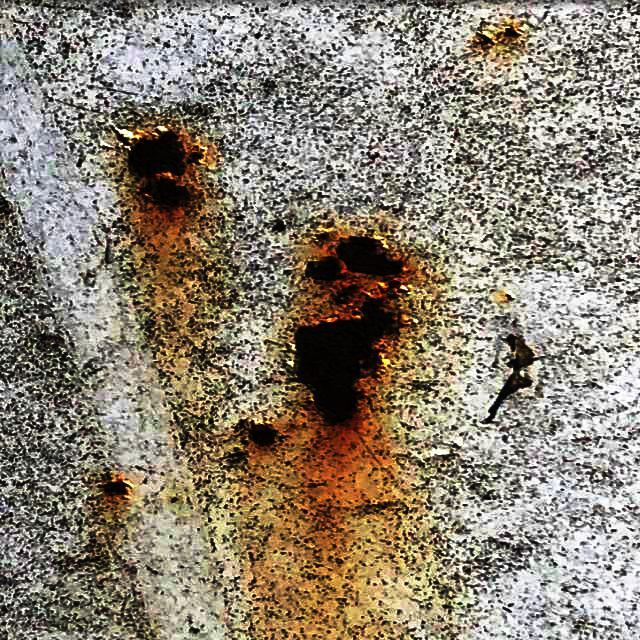Crevice Corrosion: (116, 125, 215, 214)
